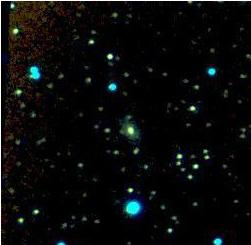star: (103, 117, 133, 147)
